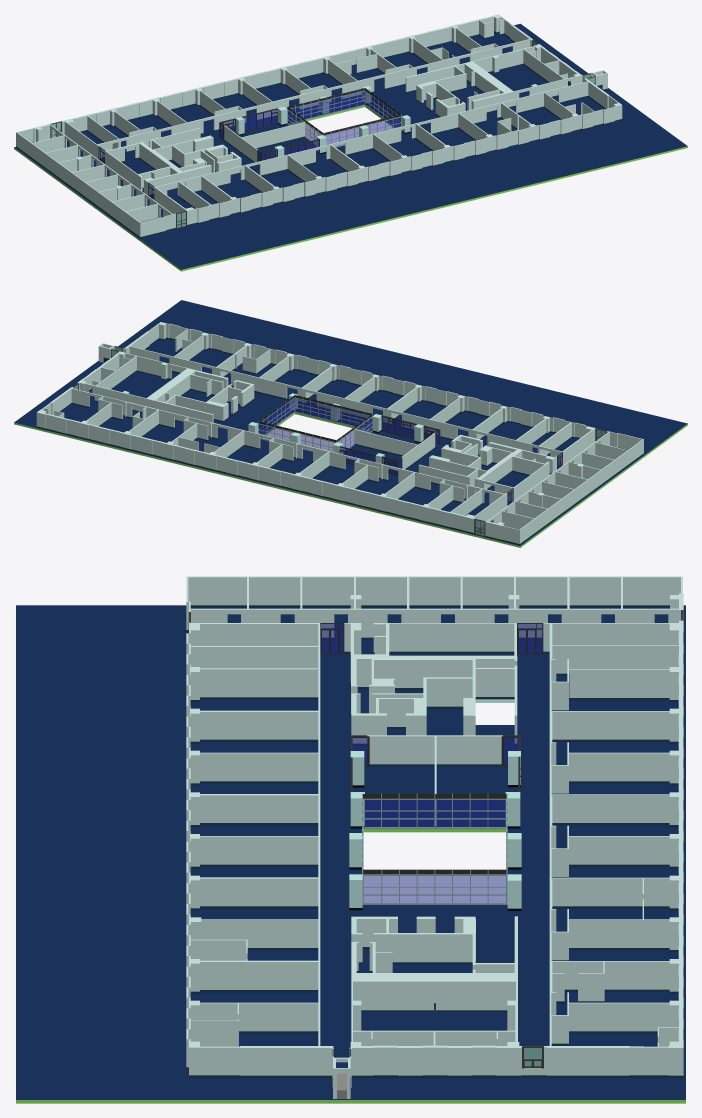
Rendered from 6F_Floor.fbx.
The picture shows the model from 3 angles, top to bottom: view 1: azimuth 30°, elevation 25°; view 2: azimuth 150°, elevation 25°; view 3: azimuth 270°, elevation 25°; orthographic projection. The views are drawn at different scales.
Visible parts, largest first — view 1: 6_Floor, Out_Wall, Room_03, Room_01, Room_02, Center_Glass, 6F_EV_02_Room, 6F_EV_02, 6F_EV_01_Room, 6F_EV_01, Room_04, Class_Room (+5 smaller); view 2: 6_Floor, Out_Wall, Room_01, Room_03, Room_02, Center_Glass, 6F_EV_02_Room, 6F_EV_02, 6F_EV_01_Room, 6F_EV_01, Room_04, Class_Room (+5 smaller); view 3: 6_Floor, Room_03, Room_01, Out_Wall, Center_Glass, 6F_EV_01, 6F_EV_02_Room, Room_02, 6F_EV_02, 6F_EV_01_Room, Room_04, Center_Pillar_6F (+4 smaller).
Boxes of the visible parts, <box> form: 6_Floor: <box>14,23,687,271</box>; Out_Wall: <box>16,14,622,238</box>; Room_03: <box>154,81,594,213</box>; Room_01: <box>64,19,530,159</box>; Room_02: <box>32,125,172,222</box>; Center_Glass: <box>287,88,401,147</box>; 6F_EV_02_Room: <box>466,45,579,107</box>; 6F_EV_02: <box>419,63,507,117</box>; 6F_EV_01_Room: <box>105,142,182,195</box>; 6F_EV_01: <box>141,139,241,184</box>; Room_04: <box>224,122,305,162</box>; Class_Room: <box>219,108,319,166</box>; 6_Floor: <box>14,300,687,547</box>; Out_Wall: <box>36,322,643,545</box>; Room_01: <box>44,388,507,521</box>; Room_03: <box>129,329,595,466</box>; Room_02: <box>487,431,627,529</box>; Center_Glass: <box>258,395,372,452</box>; 6F_EV_02_Room: <box>80,352,193,412</box>; 6F_EV_02: <box>152,369,254,419</box>; 6F_EV_01_Room: <box>477,449,556,502</box>; 6F_EV_01: <box>441,434,518,492</box>; Room_04: <box>354,429,435,469</box>; Class_Room: <box>339,415,440,475</box>; 6_Floor: <box>16,605,685,1103</box>; Room_03: <box>190,623,320,1046</box>; Room_01: <box>543,623,679,1046</box>; Out_Wall: <box>186,576,683,1078</box>; Center_Glass: <box>362,793,507,904</box>; 6F_EV_01: <box>351,658,517,745</box>; 6F_EV_02_Room: <box>351,975,517,1046</box>; Room_02: <box>190,577,678,639</box>; 6F_EV_02: <box>351,916,517,1005</box>; 6F_EV_01_Room: <box>344,623,517,684</box>; Room_04: <box>367,735,502,827</box>; Center_Pillar_6F: <box>349,751,521,910</box>.
Size of the model in its own units: 87.32 by 3.17 by 50.
